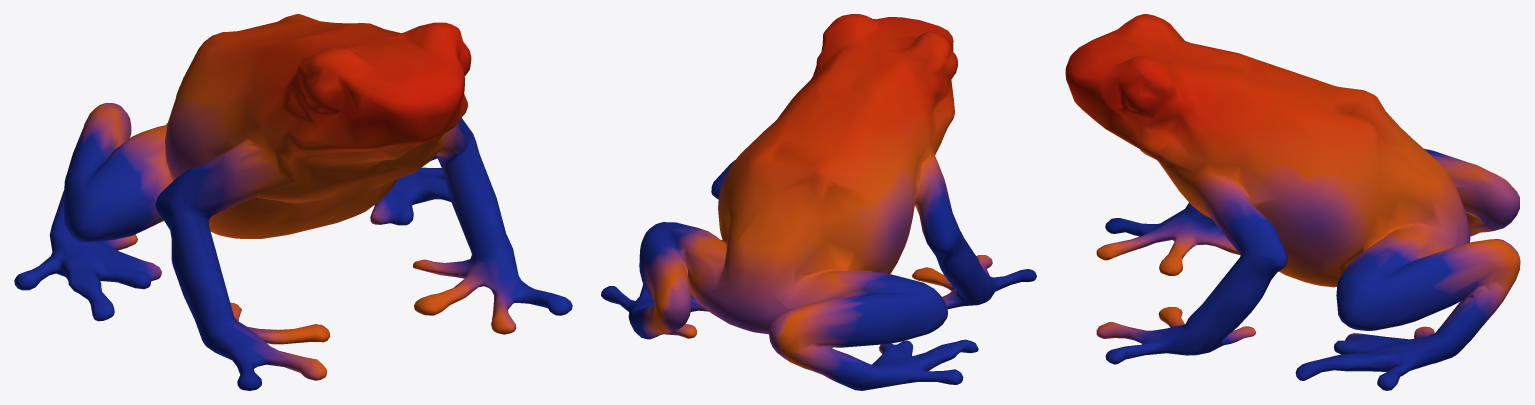
The model's file is strawberry.lo.glb.
The picture shows the model from 3 angles, left to right: view 1: azimuth 30°, elevation 25°; view 2: azimuth 150°, elevation 25°; view 3: azimuth 270°, elevation 25°; orthographic projection. The views are drawn at different scales.
Visible parts, largest first — view 1: strawberry; view 2: strawberry; view 3: strawberry.
Part boxes in pixels (bbox=[...]): strawberry: bbox=[14, 14, 572, 390]; strawberry: bbox=[601, 14, 1036, 390]; strawberry: bbox=[1065, 14, 1520, 390].
Size of the model in its own units: 0.0229 by 0.0146 by 0.023.
